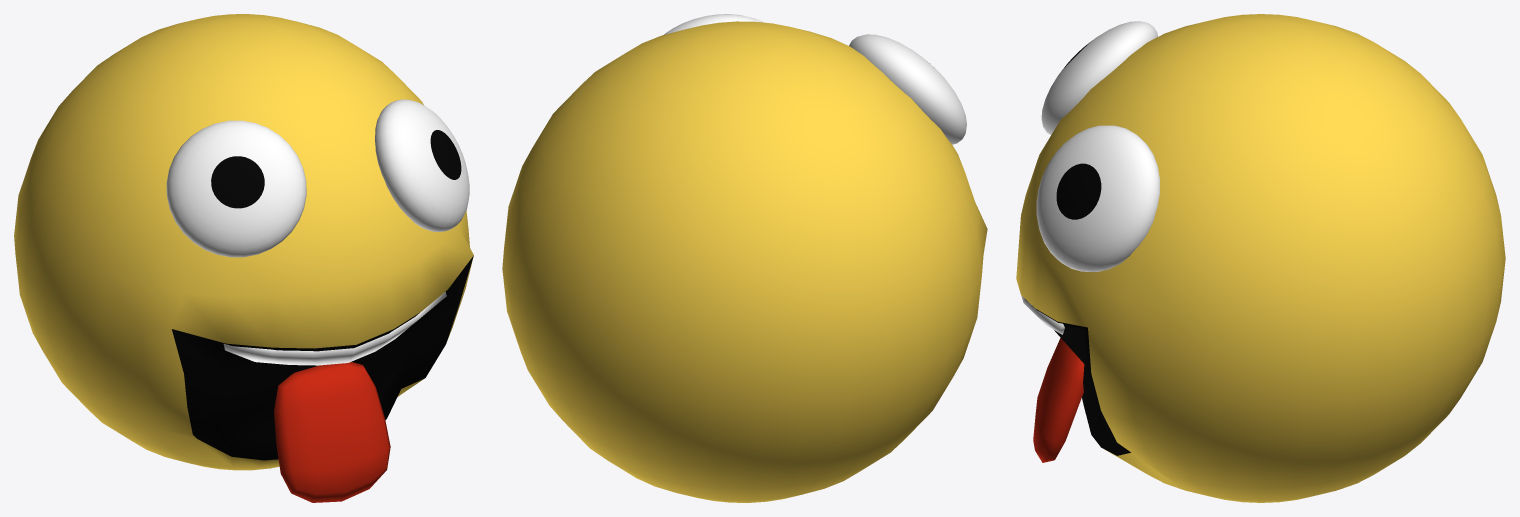
The model's file is Emoji_0.fbx.
3 renders of one model, left to right at view 1: azimuth 30°, elevation 25°; view 2: azimuth 150°, elevation 25°; view 3: azimuth 270°, elevation 25°, orthographic. The views are drawn at different scales.
Visible parts, largest first — view 1: Emoji_0; view 2: Emoji_0; view 3: Emoji_0.
Boxes of the visible parts, bbox=[...] form: Emoji_0: bbox=[14, 14, 473, 502]; Emoji_0: bbox=[502, 14, 987, 502]; Emoji_0: bbox=[1016, 14, 1505, 502].
Bounding box in the file's own units: 200 × 200 × 200.
Materials: 1 (1 with a texture image).
